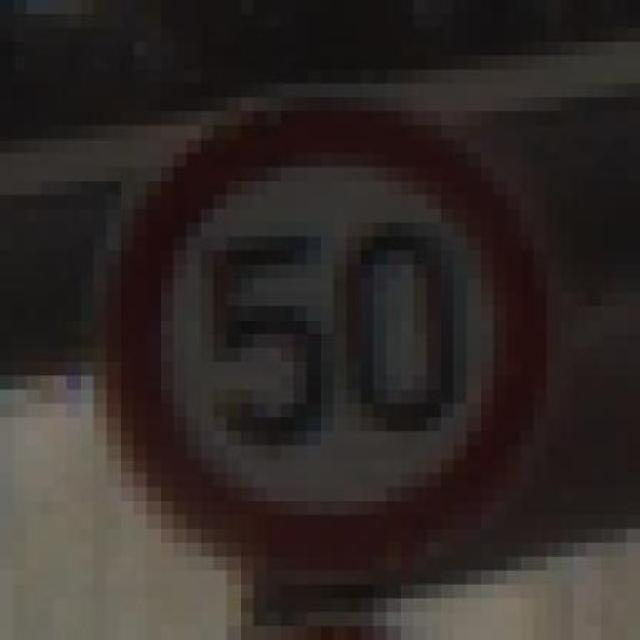50 mph speed limit: (93, 69, 573, 585)
